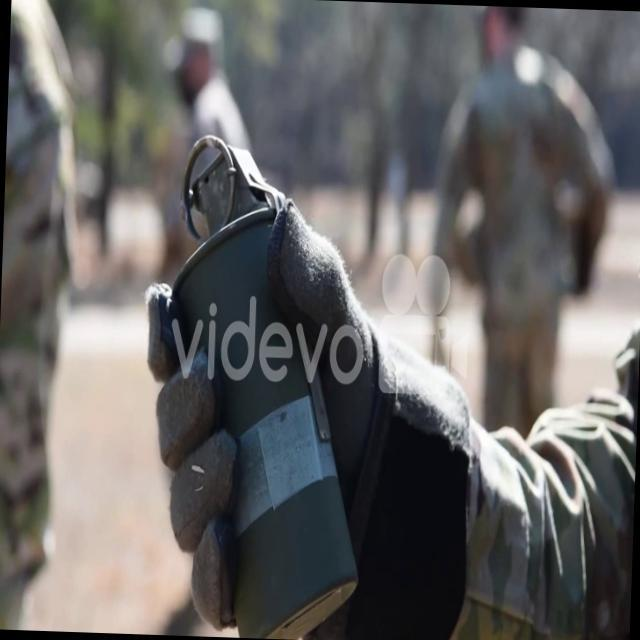grenade: (143, 138, 378, 640)
